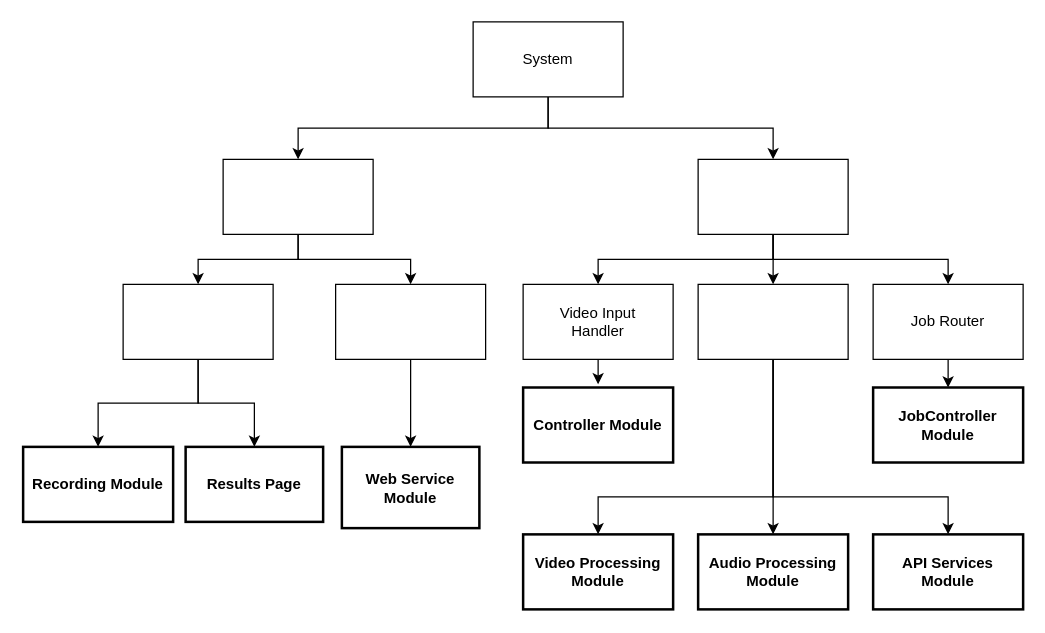
Some shapes in this 1045 by 633 pixel diagram are drawn without their labels. The shapes that lost their labels are listed below. From the top down, each one's box as (x1, y1, x2, y2) in pixels, then its label:
(222, 158, 373, 234): Front-end Components
(697, 158, 848, 234): Back-end Components
(122, 283, 273, 359): User interaction Handlers
(334, 283, 486, 359): User Request Handlers
(697, 283, 848, 359): Movie Identification Components
